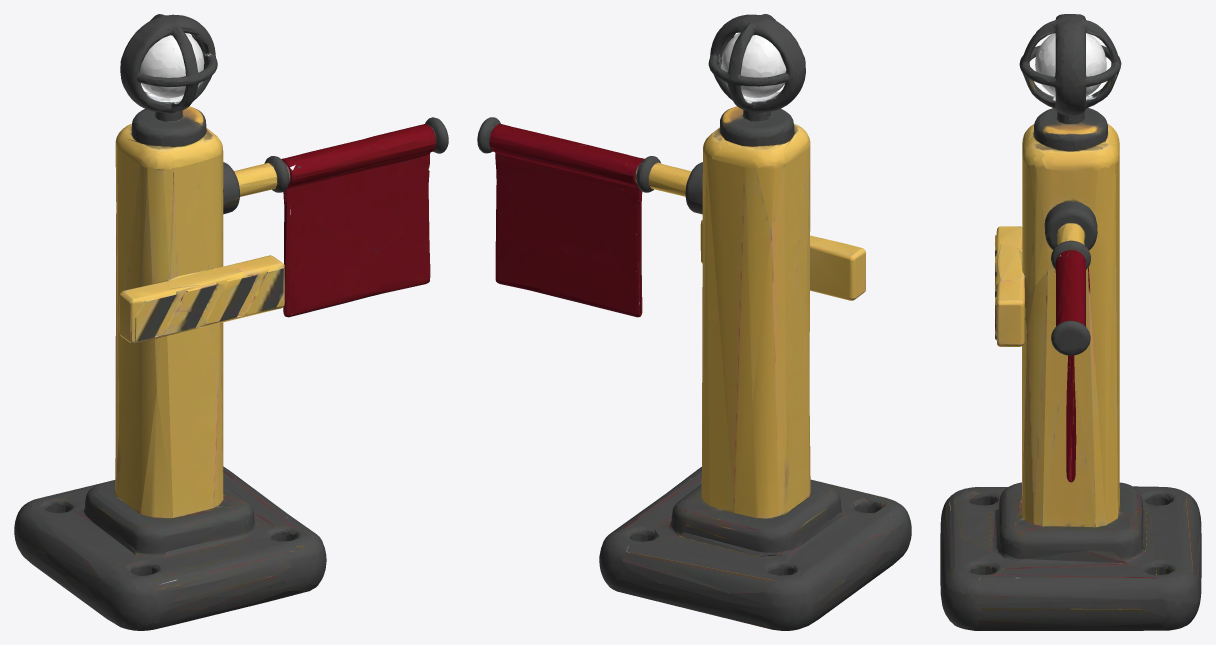
File: checkpoint_v1.glb
3 views of the same model, side by side, from view 1: azimuth 30°, elevation 25°; view 2: azimuth 150°, elevation 25°; view 3: azimuth 270°, elevation 25° (orthographic). The views are drawn at different scales.
Visible parts, largest first — view 1: body, cloth, lamp; view 2: body, cloth, lamp; view 3: body, lamp, cloth.
Part boxes in pixels (bbox=[...]): body: bbox=[14, 106, 326, 630]; cloth: bbox=[284, 117, 448, 316]; lamp: bbox=[120, 14, 217, 120]; body: bbox=[599, 106, 911, 630]; cloth: bbox=[477, 117, 640, 316]; lamp: bbox=[708, 14, 805, 120]; body: bbox=[940, 108, 1201, 630]; lamp: bbox=[1019, 14, 1121, 123]; cloth: bbox=[1051, 250, 1090, 482].
Bounding box in the file's own units: 1.95 × 2.7 × 1.14.
1 material, 1 textured.
